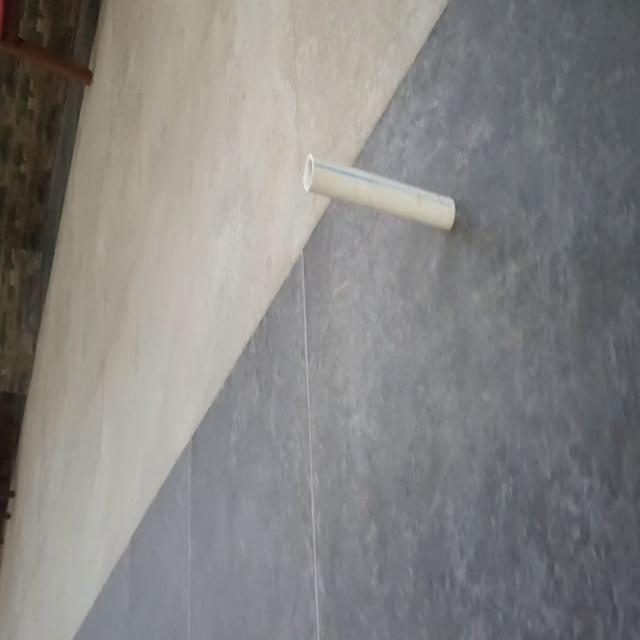Cube: (302, 151, 456, 233)
